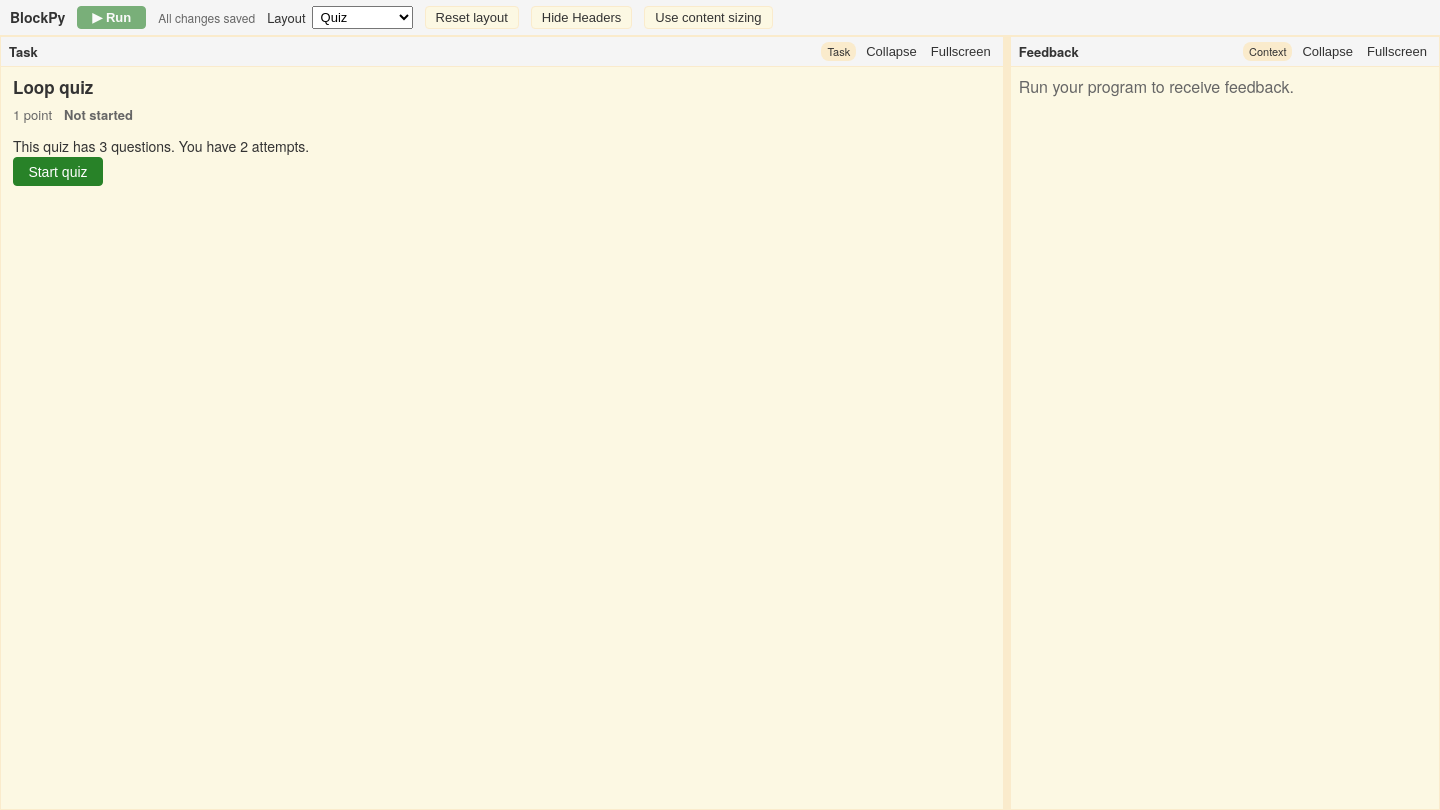
QuizTask › stops offering attempts once the limit is reached
What coordinates should you click on to do the following:
click the button "Start quiz"
I would click on:
 (58, 172)
Its box is [13,157,103,186].
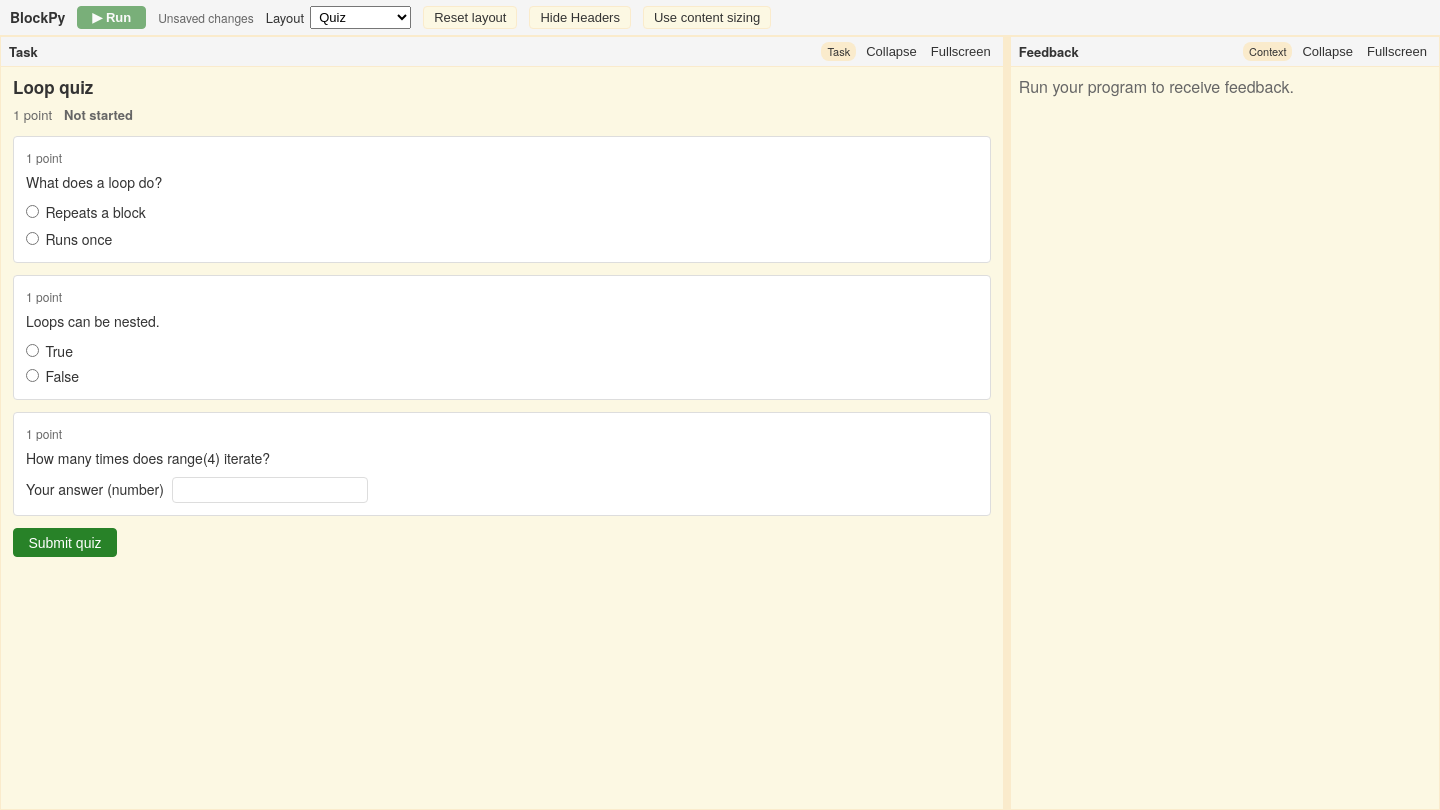
What coordinates should you click on to do the following:
click the button "Submit quiz"
I would click on:
 (65, 543)
Its box is [13,528,117,557].
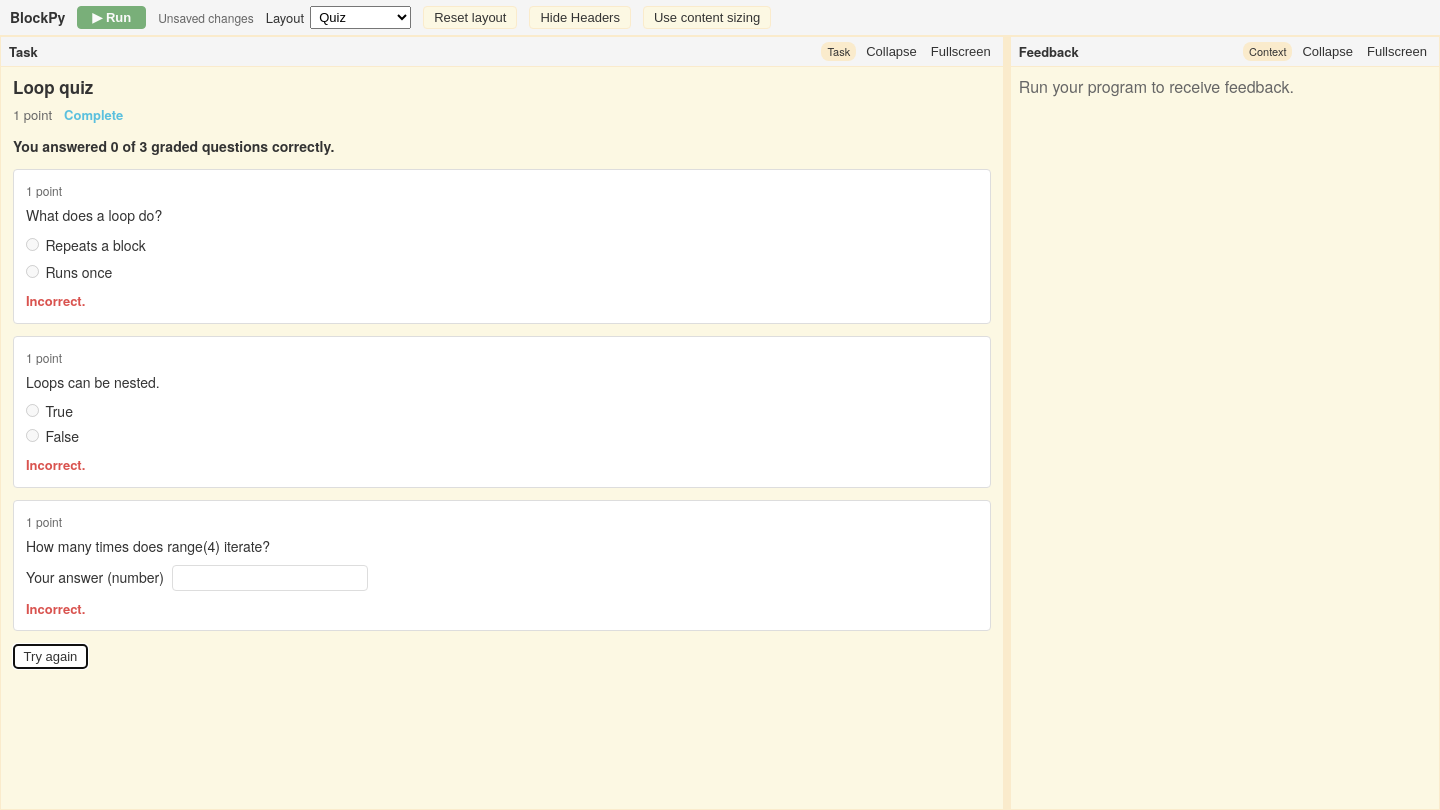
Expected: the text "You answered 0 of 3 graded questions correctly." is shown, [13,136,334,156]
What coordinates should you click on to do the following:
click the button "Try again"
I would click on:
 (50, 657)
Its box is [13,644,88,670].
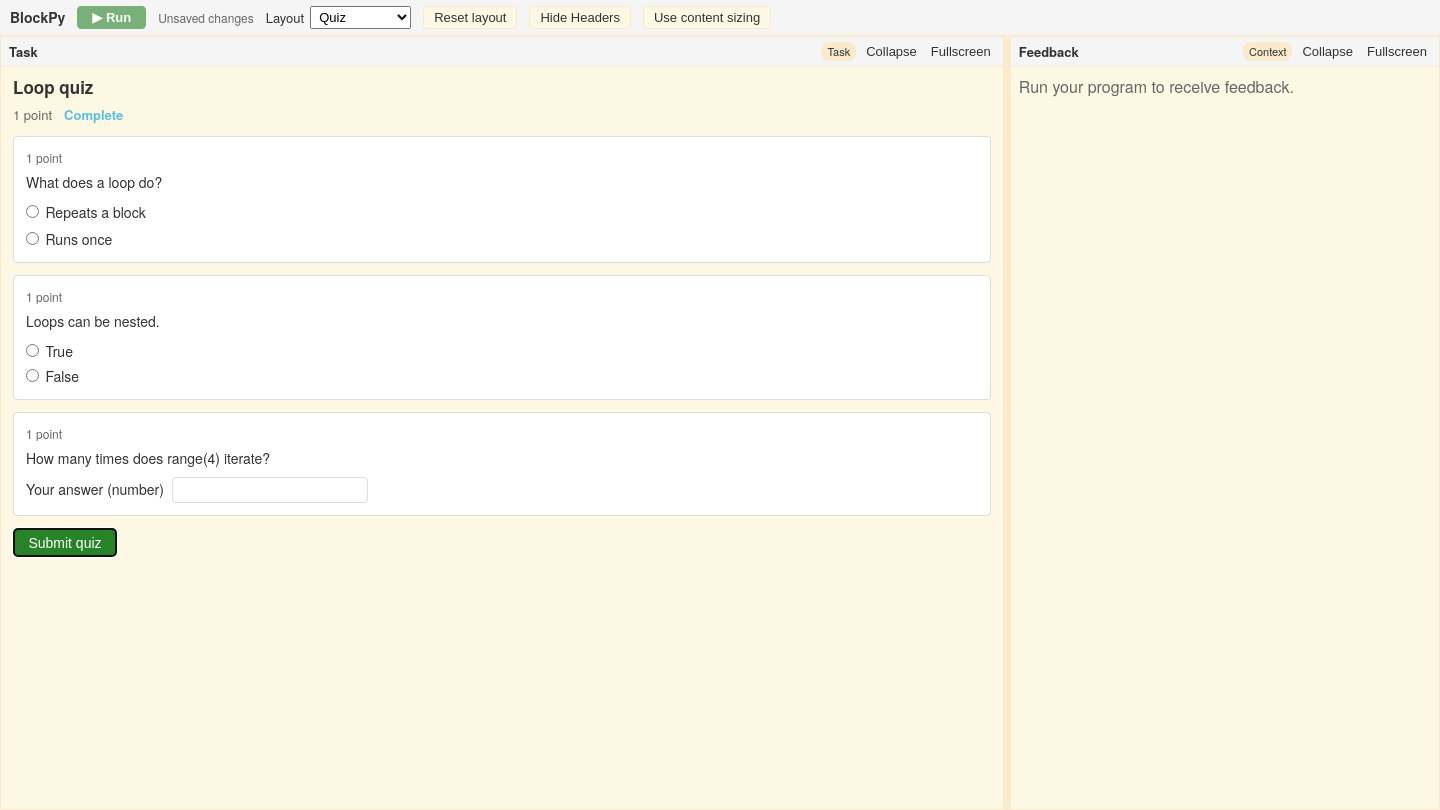
What coordinates should you click on to do the following:
click the button "Submit quiz"
I would click on:
 (65, 543)
Its box is [13,528,117,557].
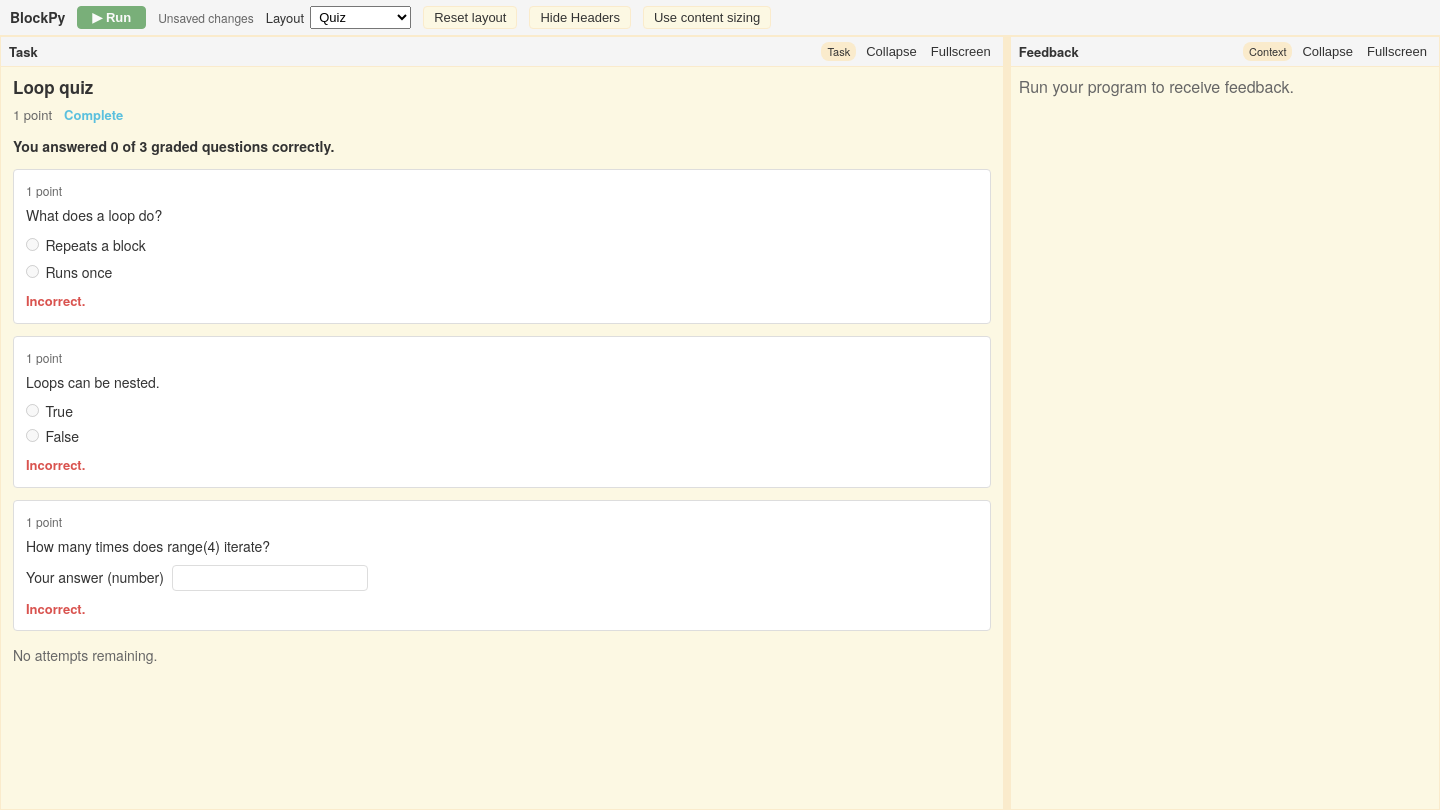
Expected: the button "Try again" is not shown
Expected: the text "You answered 0 of 3 graded questions correctly." is shown, [13,136,334,156]
Expected: the text "No attempts remaining." is shown, [13,646,157,666]
